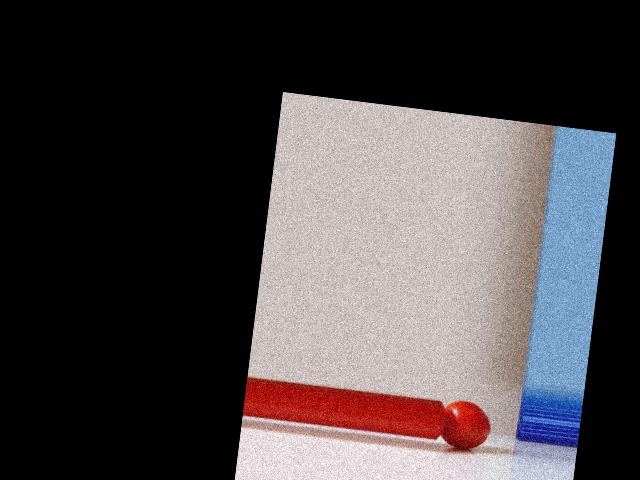tomato: (440, 399, 493, 452)
